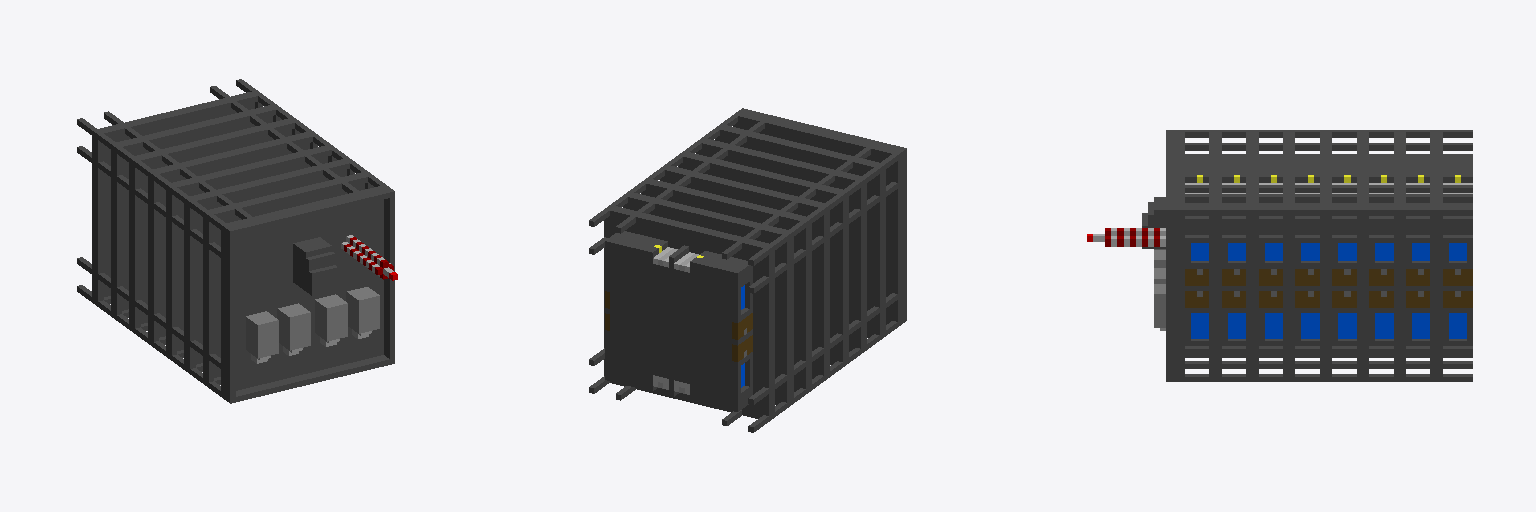
The picture shows the model from 3 angles: view 1: azimuth 30°, elevation 25°; view 2: azimuth 150°, elevation 25°; view 3: azimuth 270°, elevation 25°; orthographic projection.
Visible parts, largest first — view 1: Concrete_Building_1; view 2: Concrete_Building_1; view 3: Concrete_Building_1.
Part boxes in pixels (bbox=[...]): Concrete_Building_1: bbox=[77, 79, 397, 403]; Concrete_Building_1: bbox=[589, 108, 906, 432]; Concrete_Building_1: bbox=[1087, 130, 1472, 381].
Size of the model in its own units: 31 by 31 by 63.
1 materials, 1 textured.